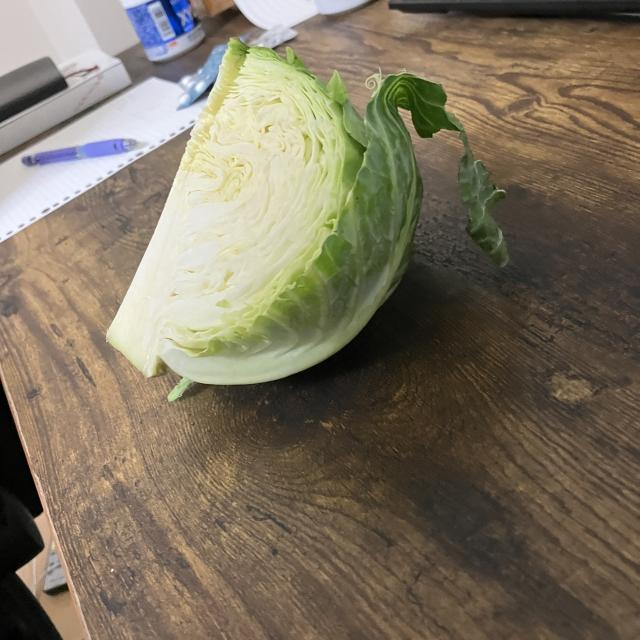haft-cabbage: (100, 32, 516, 404)
